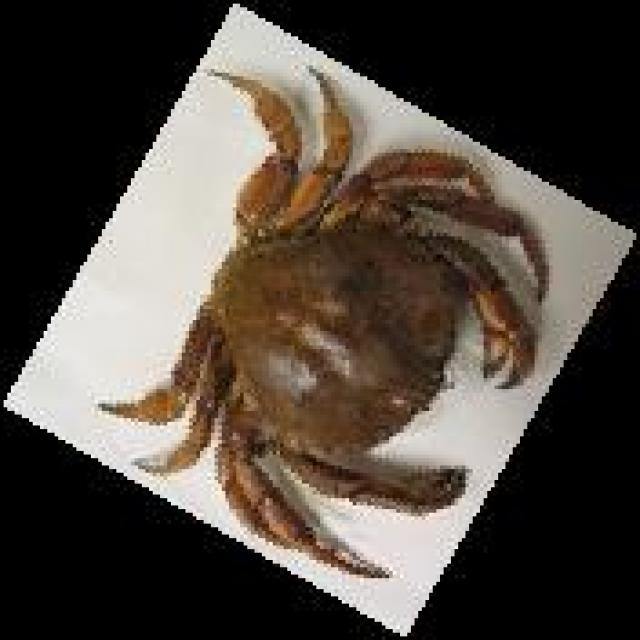Native Rock crab: (98, 69, 549, 575)
